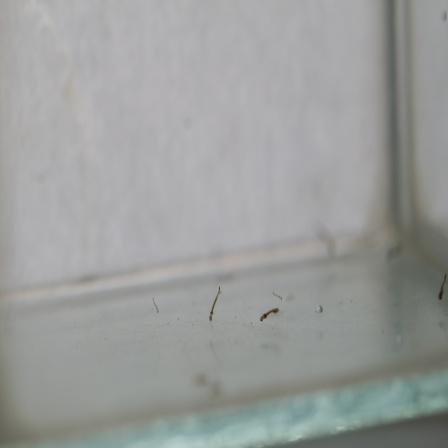Jentik-Nyamuk: (203, 282, 227, 325), (255, 302, 282, 324), (434, 271, 448, 303)
